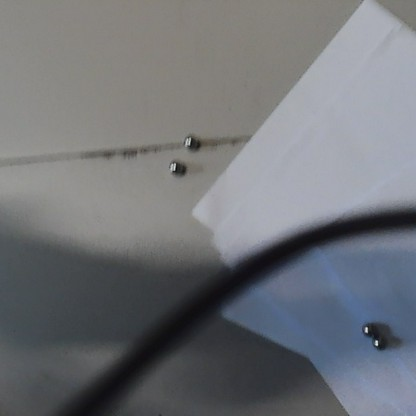ironball: (164, 155, 185, 176), (367, 330, 386, 351), (181, 131, 200, 151), (358, 319, 375, 338)
